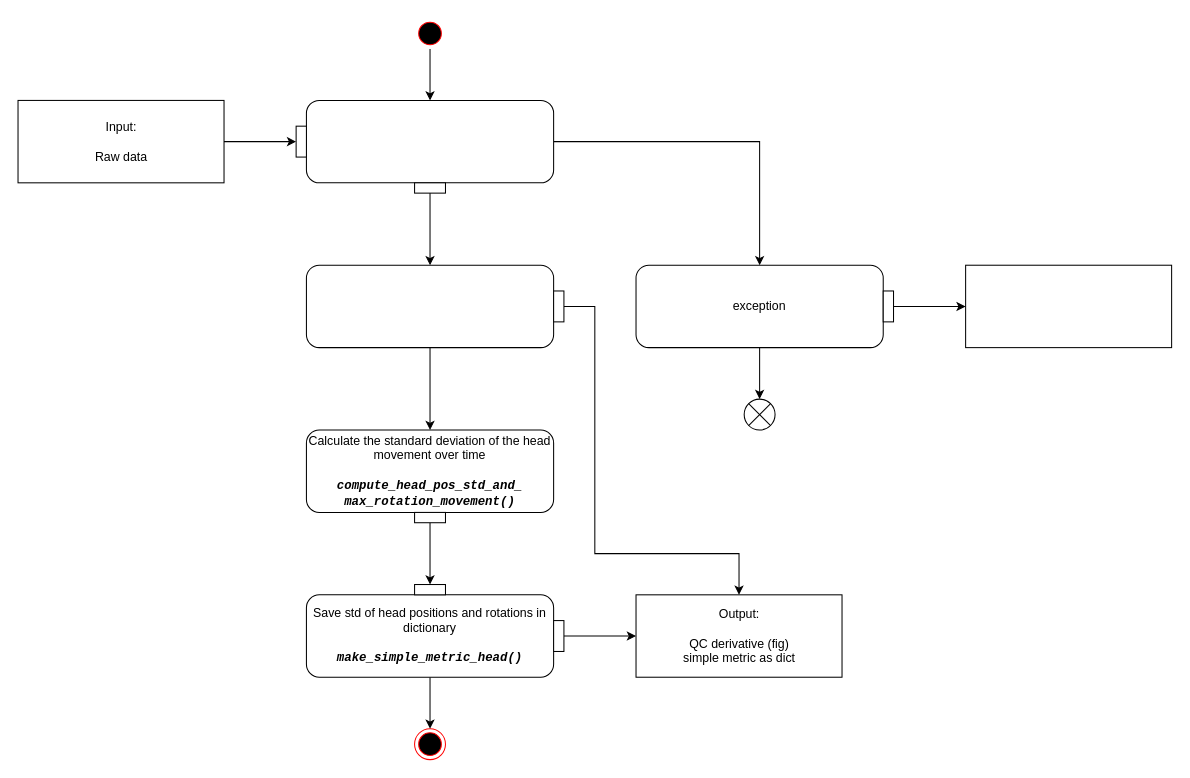
This 1190x778 diagram has some shape labels left out. Each missing label, with the centre of its shape:
"Compute head positions (x, y, z) and rotations (q1, q2, q3) get_head_positions()" belongs at pixel 429 141.
"Output: Empty dict" belongs at pixel 1068 306.
"Plot head positions and rotations make_head_pos_plot()" belongs at pixel 429 306.
